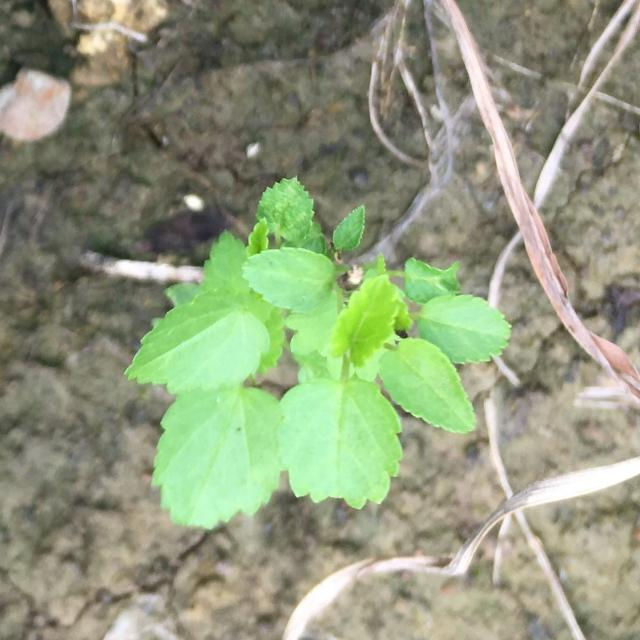PricklySida: (124, 176, 512, 531)
